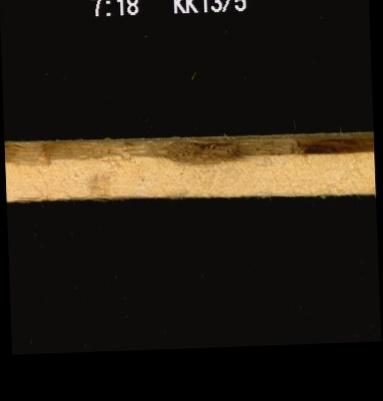wave: (4, 120, 373, 162)
